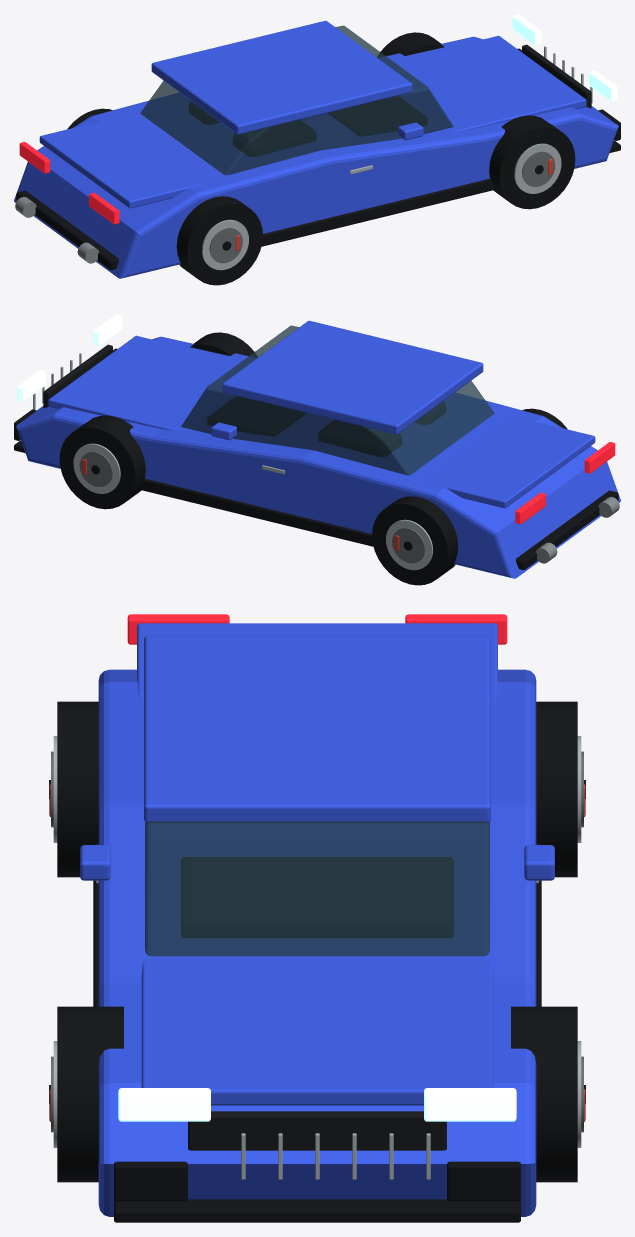
Rendered from chevy_corvette.glb.
The picture shows the model from 3 angles, top to bottom: view 1: azimuth 30°, elevation 25°; view 2: azimuth 150°, elevation 25°; view 3: azimuth 270°, elevation 25°; orthographic projection. The views are drawn at different scales.
Parts seen in each view (by area): view 1: sculpted_body, roof, glasshouse, hood_center, rear_deck, front_right_wheel_tire, rear_right_wheel_tire, side_skirt_1, dashboard, seat_1, rear_diffuser, front_left_wheel_tire (+9 smaller); view 2: sculpted_body, roof, glasshouse, hood_center, rear_deck, front_left_wheel_tire, rear_left_wheel_tire, side_skirt_-1, dashboard, seat_-1, rear_diffuser, front_right_wheel_tire (+9 smaller); view 3: sculpted_body, roof, hood_center, glasshouse, dashboard, front_grille, front_splitter, front_left_wheel_tire, front_right_wheel_tire, rear_left_wheel_tire, rear_right_wheel_tire, rear_deck (+8 smaller).
Part boxes in pixels (bbox=[...]): sculpted_body: bbox=[14, 36, 618, 278]; roof: bbox=[151, 20, 412, 134]; glasshouse: bbox=[140, 25, 453, 175]; hood_center: bbox=[386, 35, 586, 131]; rear_deck: bbox=[39, 116, 209, 208]; front_right_wheel_tire: bbox=[489, 115, 575, 209]; rear_right_wheel_tire: bbox=[176, 196, 262, 285]; side_skirt_1: bbox=[261, 178, 495, 246]; dashboard: bbox=[328, 96, 426, 135]; seat_1: bbox=[233, 120, 315, 156]; rear_diffuser: bbox=[16, 190, 118, 269]; front_left_wheel_tire: bbox=[377, 32, 444, 57]; sculpted_body: bbox=[16, 336, 620, 578]; roof: bbox=[222, 320, 483, 434]; glasshouse: bbox=[181, 325, 494, 475]; hood_center: bbox=[48, 335, 248, 431]; rear_deck: bbox=[425, 416, 595, 508]; front_left_wheel_tire: bbox=[59, 415, 145, 509]; rear_left_wheel_tire: bbox=[372, 496, 458, 585]; side_skirt_-1: bbox=[139, 478, 373, 546]; dashboard: bbox=[208, 396, 306, 435]; seat_-1: bbox=[319, 420, 401, 456]; rear_diffuser: bbox=[516, 490, 618, 569]; front_right_wheel_tire: bbox=[190, 332, 257, 357]; sculpted_body: bbox=[98, 669, 536, 1216]; roof: bbox=[144, 635, 490, 822]; hood_center: bbox=[141, 959, 493, 1105]; glasshouse: bbox=[145, 821, 489, 956]; dashboard: bbox=[181, 857, 453, 937]; front_grille: bbox=[188, 1111, 446, 1150]; front_splitter: bbox=[114, 1199, 520, 1222]; front_left_wheel_tire: bbox=[511, 1006, 577, 1182]; front_right_wheel_tire: bbox=[57, 1006, 123, 1182]; rear_left_wheel_tire: bbox=[536, 701, 577, 877]; rear_right_wheel_tire: bbox=[57, 701, 98, 877]; rear_deck: bbox=[137, 623, 497, 701].
Size of the model in its own units: 5.09 by 1.25 by 2.26.
